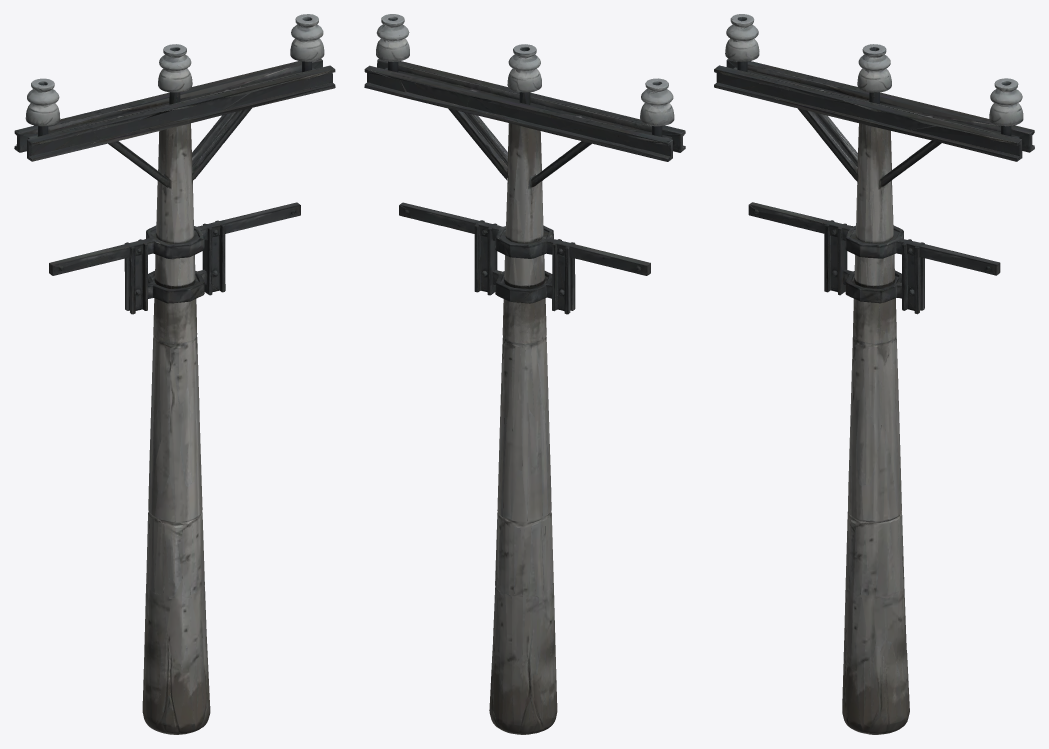
Rendered from concrete_pole.glb.
3 views of the same model, side by side, from view 1: azimuth 30°, elevation 25°; view 2: azimuth 150°, elevation 25°; view 3: azimuth 330°, elevation 25° (orthographic).
Size of the model in its own units: 0.8885 by 1.9 by 0.1712.
1 material, 1 textured.
